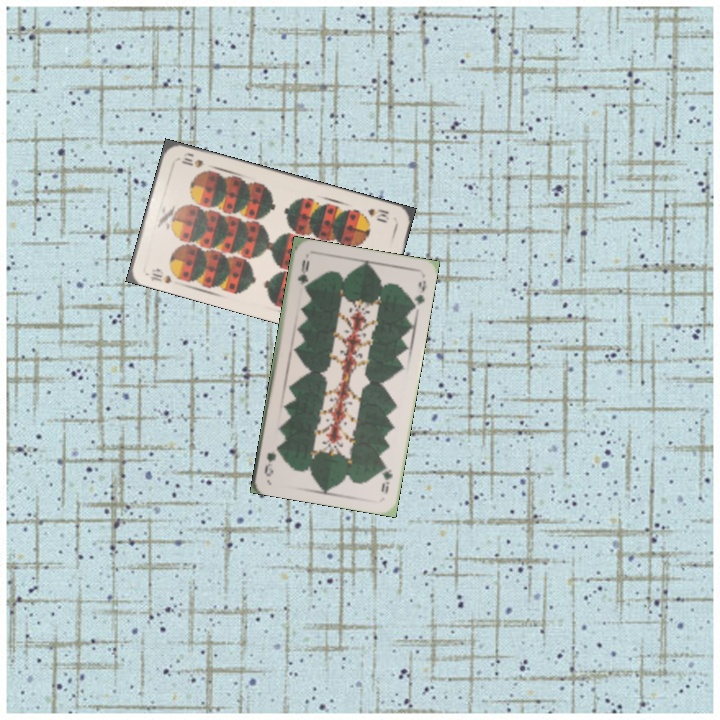G9: (293, 256, 312, 292), (377, 458, 395, 495)
S10: (145, 265, 184, 286), (364, 204, 392, 224)
